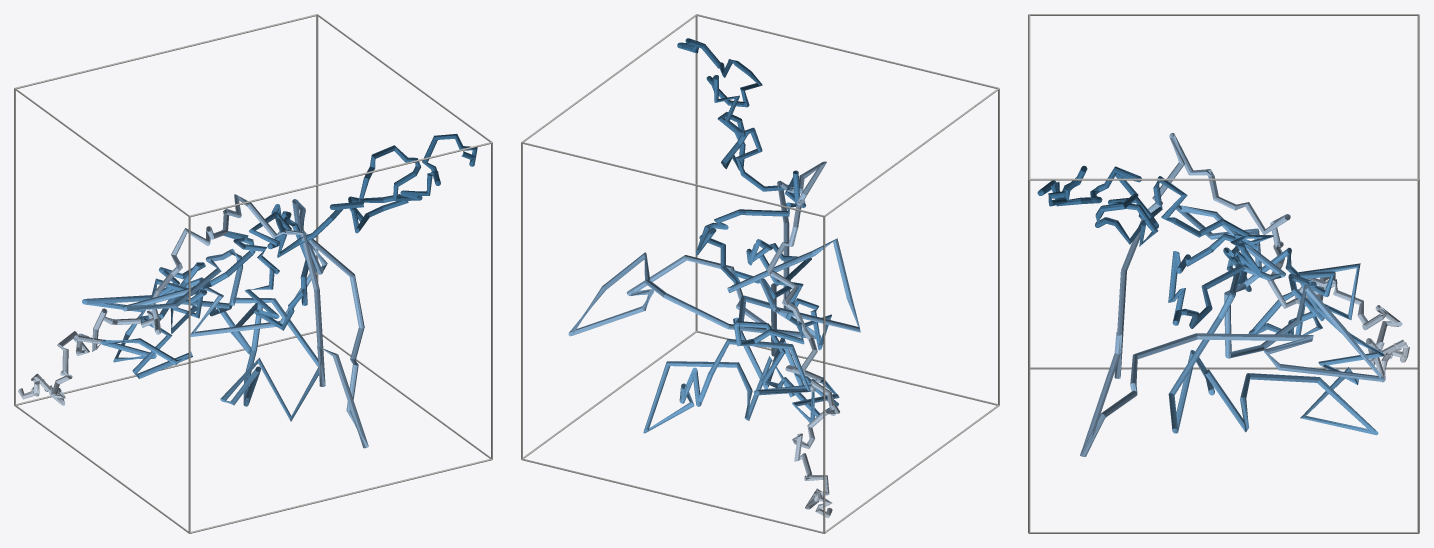
3 views of the same model, side by side, from view 1: azimuth 30°, elevation 25°; view 2: azimuth 150°, elevation 25°; view 3: azimuth 270°, elevation 25° (orthographic). The views are drawn at different scales.
Visible parts, largest first — view 1: geometry_0, geometry_1; view 2: geometry_0, geometry_1; view 3: geometry_0, geometry_1.
Part boxes in pixels (x1=…): geometry_0: x1=18, y1=133, x2=477, y2=448; geometry_1: x1=14, y1=14, x2=492, y2=533; geometry_0: x1=568, y1=38, x2=860, y2=518; geometry_1: x1=521, y1=14, x2=999, y2=533; geometry_0: x1=1037, y1=133, x2=1409, y2=456; geometry_1: x1=1028, y1=14, x2=1419, y2=533.
Size of the model in its own units: 0.3048 by 0.3014 by 0.3016.
